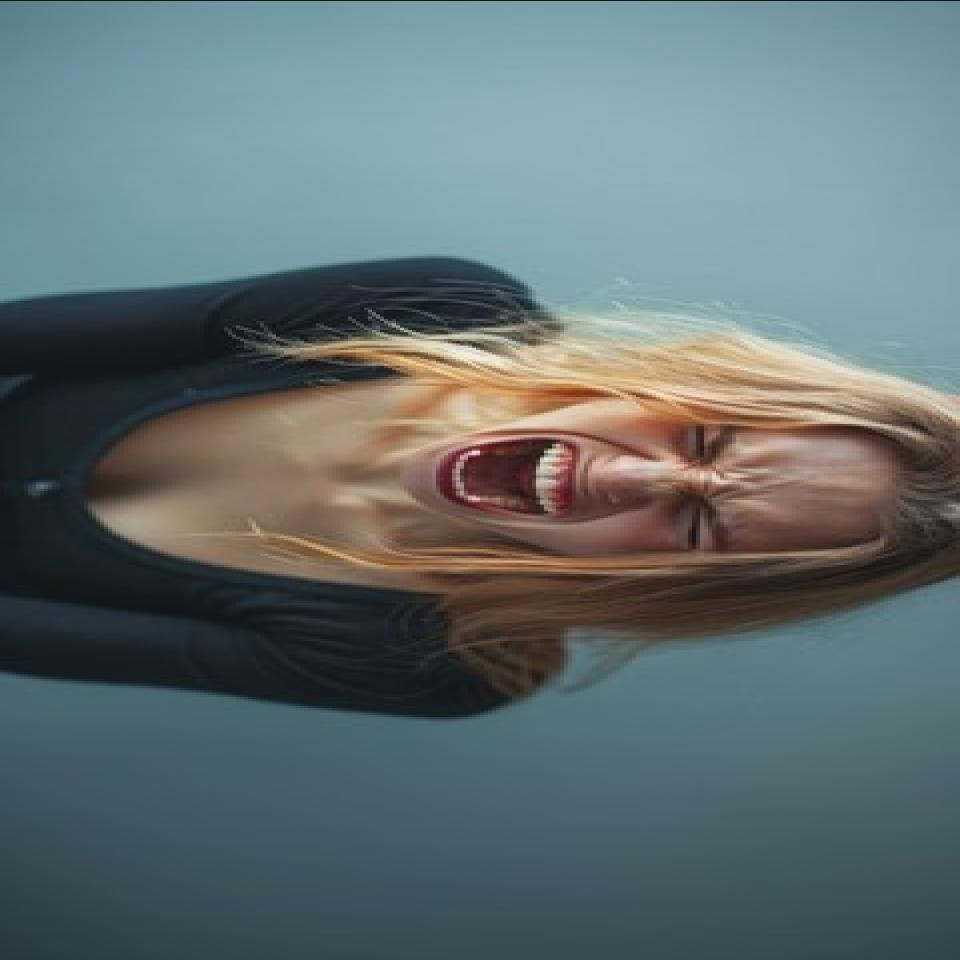Anger: (406, 396, 865, 572)
